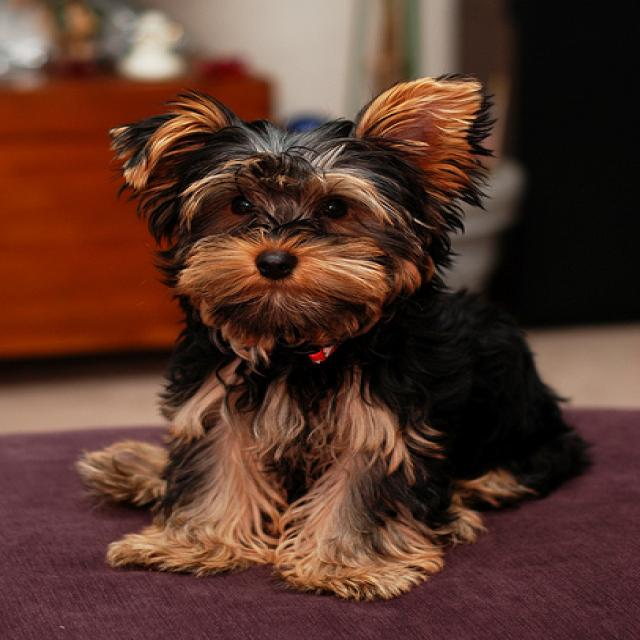dog-yorkshire_terrier: (77, 70, 607, 605)
